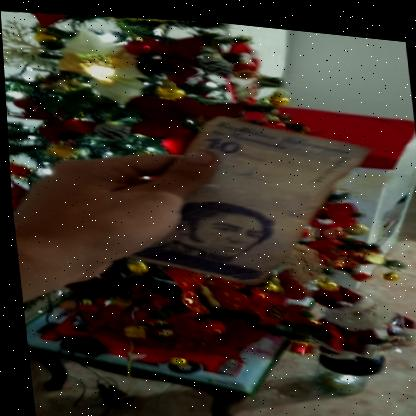ten-front-vef: (106, 94, 382, 296)
